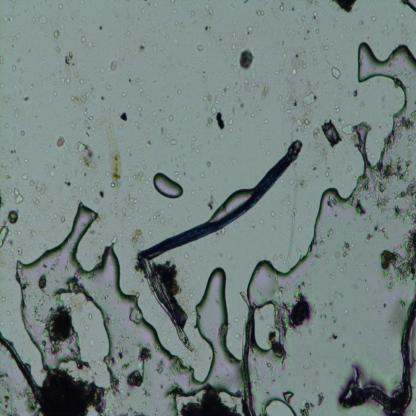Air bubble: (20, 214, 208, 416), (51, 281, 118, 389), (191, 269, 243, 397), (355, 38, 416, 140), (246, 255, 284, 311), (250, 296, 284, 351), (352, 122, 375, 179), (152, 168, 185, 199), (262, 394, 294, 416), (320, 119, 342, 148), (402, 0, 416, 12)
Background material: (0, 329, 39, 394), (270, 282, 319, 332), (57, 48, 94, 111), (379, 226, 416, 287), (366, 189, 416, 225), (180, 383, 234, 416), (123, 339, 153, 393), (47, 306, 75, 354), (376, 161, 412, 192), (0, 367, 18, 416), (109, 126, 120, 199), (28, 291, 50, 327), (297, 388, 325, 416), (270, 329, 288, 368), (77, 142, 99, 171), (346, 189, 369, 216), (290, 47, 310, 74), (276, 92, 300, 113), (237, 49, 257, 71), (21, 389, 38, 414), (66, 274, 86, 295), (124, 191, 140, 216), (398, 112, 416, 134), (332, 0, 360, 14), (287, 113, 310, 130), (342, 123, 358, 147), (402, 133, 416, 160), (127, 74, 144, 96), (282, 72, 300, 92), (244, 70, 258, 95), (110, 371, 124, 395), (300, 93, 317, 112), (385, 131, 397, 157), (42, 160, 59, 178), (252, 355, 262, 385), (131, 225, 143, 250), (375, 222, 390, 240), (30, 177, 45, 195), (152, 204, 166, 223), (300, 354, 314, 371), (113, 340, 126, 358), (282, 389, 298, 403), (356, 176, 372, 190), (83, 116, 93, 138), (394, 121, 404, 143), (260, 80, 271, 100), (102, 313, 117, 327), (0, 225, 10, 246), (399, 22, 413, 37), (202, 4, 216, 19), (188, 135, 199, 154), (326, 195, 339, 211), (342, 242, 352, 262), (124, 406, 144, 416), (154, 356, 163, 378), (17, 89, 31, 103), (296, 275, 308, 291), (102, 404, 118, 416), (94, 114, 106, 130), (216, 112, 228, 128), (161, 126, 171, 145), (282, 297, 293, 314), (130, 308, 141, 325), (13, 188, 24, 205), (54, 134, 67, 148), (22, 223, 36, 236), (34, 276, 47, 290), (95, 210, 107, 225), (7, 209, 19, 224), (173, 363, 185, 378), (288, 328, 303, 340), (282, 44, 292, 61), (301, 28, 314, 41), (322, 298, 335, 311), (121, 358, 135, 370), (75, 28, 86, 43), (48, 258, 61, 270), (268, 366, 276, 385), (107, 59, 119, 71), (311, 11, 320, 27), (200, 70, 208, 88), (346, 89, 360, 99), (133, 171, 147, 181), (316, 144, 326, 158), (299, 172, 307, 189), (6, 33, 21, 42), (330, 67, 341, 79), (285, 28, 297, 39), (14, 106, 24, 119), (208, 195, 216, 211), (63, 173, 72, 187), (240, 397, 247, 415), (283, 193, 292, 207), (271, 4, 280, 18), (330, 102, 341, 113), (329, 330, 340, 341), (0, 14, 15, 22), (38, 14, 48, 26), (294, 246, 304, 258), (152, 112, 160, 127), (171, 170, 181, 182), (118, 113, 130, 123), (220, 83, 230, 95), (316, 234, 325, 247), (361, 216, 374, 225), (0, 190, 7, 206), (312, 124, 320, 138), (233, 82, 241, 96), (254, 8, 265, 18), (58, 212, 67, 224), (335, 82, 344, 94), (93, 252, 102, 264), (144, 137, 153, 149), (125, 48, 138, 56), (91, 195, 101, 205), (203, 92, 213, 102), (204, 26, 214, 36), (17, 244, 25, 256), (146, 0, 158, 8), (315, 249, 323, 261), (299, 14, 306, 27), (107, 106, 116, 116), (356, 19, 366, 28), (1, 94, 11, 103), (210, 104, 218, 115), (278, 1, 286, 12), (145, 175, 152, 187), (331, 314, 338, 326), (52, 31, 61, 40), (197, 43, 206, 52), (106, 84, 114, 94), (82, 106, 90, 116), (31, 195, 41, 203), (69, 120, 77, 130), (319, 42, 329, 50), (326, 229, 334, 239), (364, 233, 374, 241), (301, 374, 307, 387), (190, 7, 197, 18), (306, 82, 314, 91), (6, 170, 12, 182), (410, 107, 416, 119), (274, 67, 280, 79), (206, 116, 212, 128), (111, 234, 118, 244), (140, 41, 146, 52), (336, 265, 347, 271), (394, 155, 402, 163), (87, 227, 95, 235), (133, 121, 140, 130), (22, 172, 29, 181), (139, 6, 146, 15), (327, 273, 336, 280), (183, 250, 189, 260), (127, 146, 132, 158), (40, 336, 46, 346), (8, 0, 16, 7), (4, 310, 12, 317), (231, 159, 238, 167), (52, 213, 59, 221), (262, 389, 270, 396), (170, 138, 177, 146), (233, 332, 240, 340), (359, 100, 366, 108), (113, 9, 118, 20), (214, 93, 219, 104), (195, 107, 200, 118), (370, 13, 376, 22), (332, 15, 338, 24), (316, 36, 326, 41), (86, 41, 93, 48), (386, 63, 393, 70), (320, 312, 327, 319), (18, 76, 24, 84), (256, 123, 262, 131), (310, 48, 316, 56), (184, 114, 190, 122), (48, 96, 54, 104), (336, 251, 342, 259), (32, 15, 38, 23), (174, 37, 180, 45), (246, 28, 252, 36), (221, 228, 226, 237), (400, 298, 405, 307), (168, 115, 174, 122), (199, 172, 205, 179), (266, 133, 272, 140), (270, 226, 276, 233), (57, 4, 63, 11), (250, 111, 256, 118), (312, 164, 318, 171), (228, 2, 235, 8), (233, 316, 239, 323), (363, 80, 370, 86), (0, 56, 5, 64), (219, 132, 224, 140), (99, 190, 104, 198), (329, 176, 334, 184), (60, 23, 65, 31), (55, 46, 60, 54), (179, 22, 184, 30), (206, 160, 211, 168), (228, 118, 233, 126), (42, 263, 48, 269), (30, 81, 34, 90), (16, 57, 22, 63), (99, 76, 105, 82), (334, 54, 340, 60), (298, 224, 302, 233), (398, 12, 404, 18), (100, 106, 106, 112), (126, 30, 132, 36), (232, 44, 238, 50), (352, 283, 358, 289), (232, 106, 236, 115), (346, 165, 352, 171), (314, 29, 321, 34), (122, 92, 127, 99), (241, 102, 246, 109), (192, 128, 199, 133), (228, 126, 233, 133), (182, 103, 186, 111), (191, 188, 195, 196), (100, 66, 104, 74), (12, 64, 16, 72), (148, 228, 152, 236), (366, 34, 370, 42), (208, 41, 212, 49), (242, 0, 250, 4), (378, 120, 382, 128), (314, 371, 319, 377), (137, 107, 143, 112), (20, 130, 26, 135), (269, 211, 275, 216), (341, 24, 346, 30), (263, 118, 268, 124), (120, 218, 125, 224), (142, 164, 147, 170), (5, 123, 10, 129), (229, 63, 235, 68), (265, 362, 271, 367), (313, 58, 318, 64), (376, 145, 382, 150), (11, 150, 17, 155), (371, 154, 376, 160), (383, 302, 387, 309), (1, 83, 5, 90), (89, 312, 93, 319), (154, 46, 158, 53), (151, 25, 155, 32), (251, 221, 255, 228), (23, 158, 28, 163), (10, 44, 15, 49), (80, 0, 85, 5), (144, 31, 149, 36), (224, 57, 229, 62), (170, 0, 175, 5), (53, 90, 57, 96), (90, 186, 94, 192), (210, 186, 214, 192), (176, 164, 182, 168), (407, 38, 411, 44), (76, 6, 80, 12), (12, 126, 16, 132), (350, 36, 354, 42), (325, 171, 329, 177), (82, 18, 86, 24), (238, 95, 241, 103), (378, 310, 382, 316), (342, 310, 348, 314), (174, 19, 178, 25), (317, 64, 321, 69), (99, 25, 103, 30), (115, 201, 119, 206), (102, 95, 106, 100), (308, 0, 312, 5), (384, 25, 388, 30), (338, 60, 342, 65), (248, 263, 253, 267), (138, 189, 142, 194), (342, 343, 346, 348), (387, 124, 392, 128), (208, 355, 212, 360), (176, 90, 181, 94), (81, 178, 85, 183), (374, 139, 378, 144), (153, 78, 158, 82), (344, 159, 348, 164), (169, 201, 172, 207), (280, 253, 283, 259), (165, 33, 168, 39), (366, 286, 369, 292), (292, 5, 295, 11), (96, 178, 99, 184), (324, 325, 327, 331), (207, 141, 211, 145), (127, 104, 131, 108), (257, 108, 261, 112), (153, 59, 157, 63), (329, 42, 333, 46), (188, 217, 192, 221), (127, 70, 131, 74), (46, 32, 50, 36), (282, 40, 286, 44), (141, 114, 144, 119), (239, 36, 244, 39), (316, 1, 319, 6), (130, 63, 133, 68), (413, 100, 416, 105), (233, 33, 236, 38), (139, 146, 141, 152), (161, 47, 164, 51), (80, 186, 82, 192), (16, 157, 19, 161), (2, 297, 4, 303), (85, 172, 87, 178), (364, 278, 367, 282), (219, 37, 222, 41), (352, 218, 356, 221), (174, 9, 176, 15), (55, 82, 57, 87), (118, 214, 120, 219), (233, 21, 236, 24), (108, 172, 110, 176), (150, 188, 152, 192), (29, 49, 31, 53), (193, 55, 195, 59), (188, 82, 190, 86), (344, 65, 346, 68), (192, 69, 194, 72), (50, 76, 51, 79)
Cellulose filter fibre: (340, 292, 416, 414), (139, 256, 197, 354), (36, 368, 114, 416), (240, 319, 256, 415)
Cotton: (135, 135, 301, 262)
